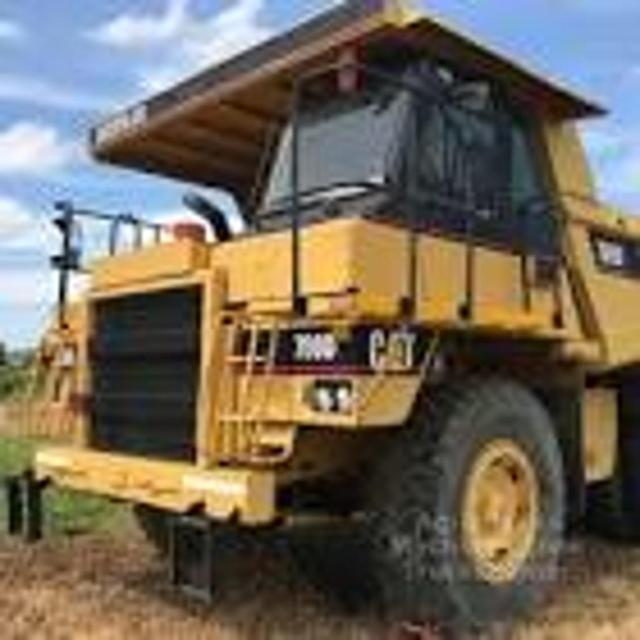dump_truck: (17, 3, 640, 612)
